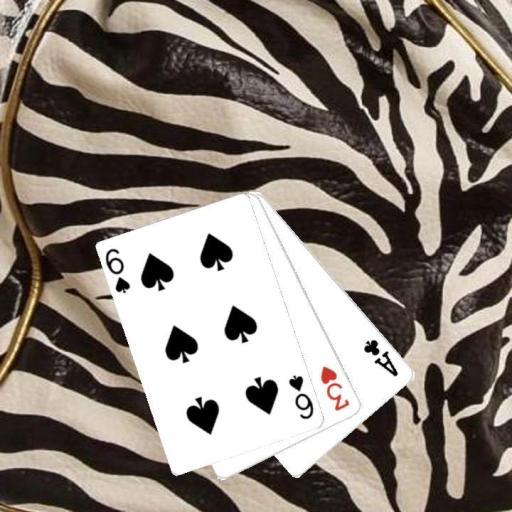3H: (317, 363, 351, 413)
6S: (103, 245, 133, 295), (286, 372, 316, 421)
AC: (361, 336, 401, 378)
